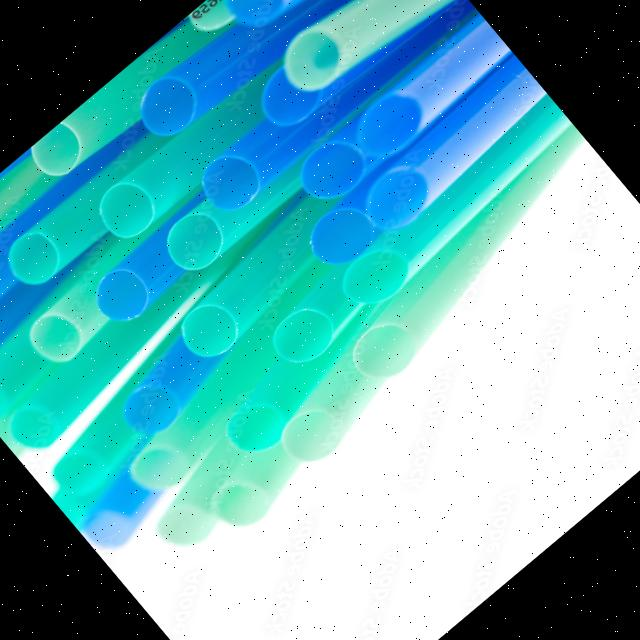plastic: (264, 0, 460, 111)
